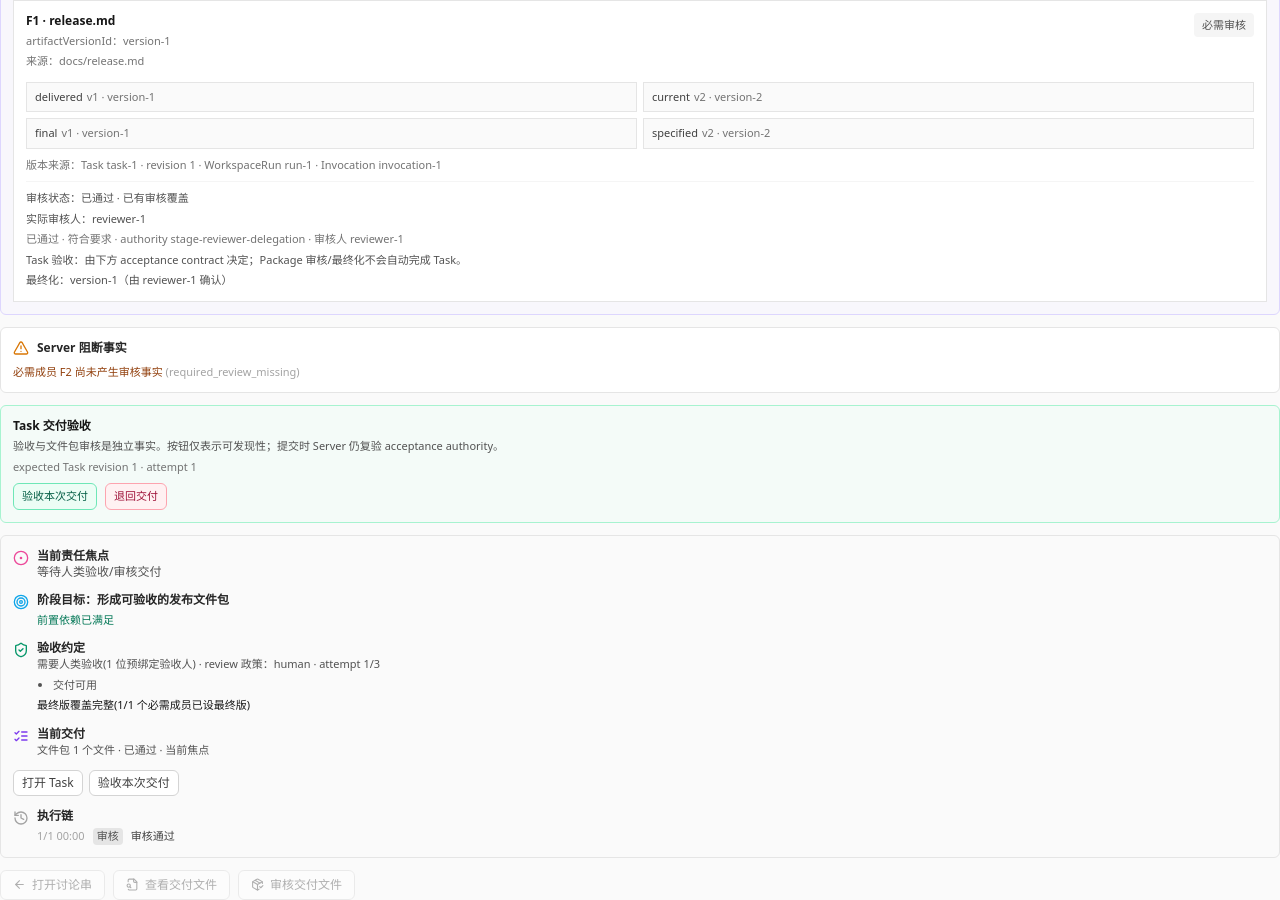
Scenario: 阶段交付审核 mutation 闭环 (#1177) › Task 投影里的验收快捷动作复用阶段验收对话框
(page scrolled)
Click the button "验收本次交付" below "个文件 ·" at (134, 783), box [89, 770, 179, 796]
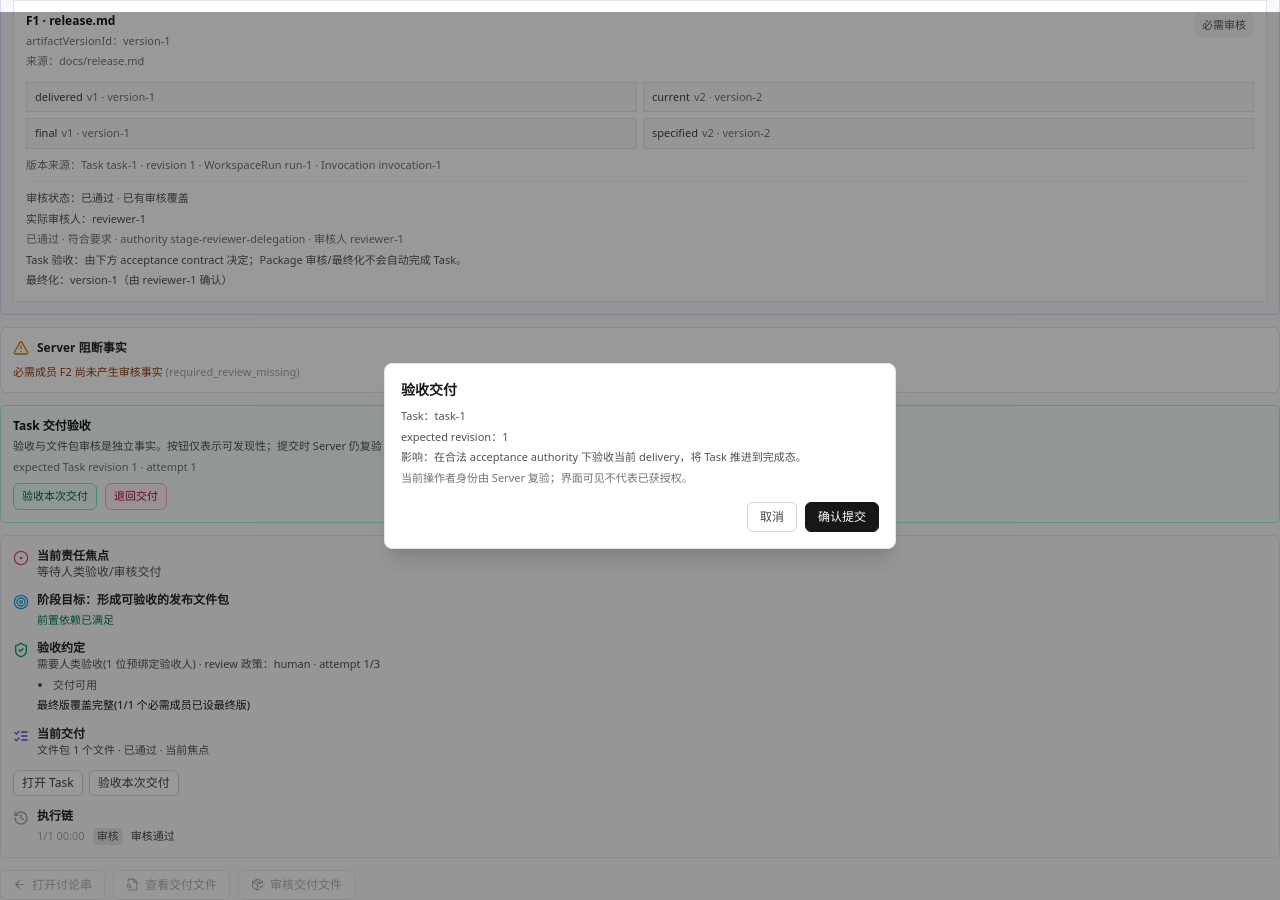
Now the element that starts with "验收交付" is shown
